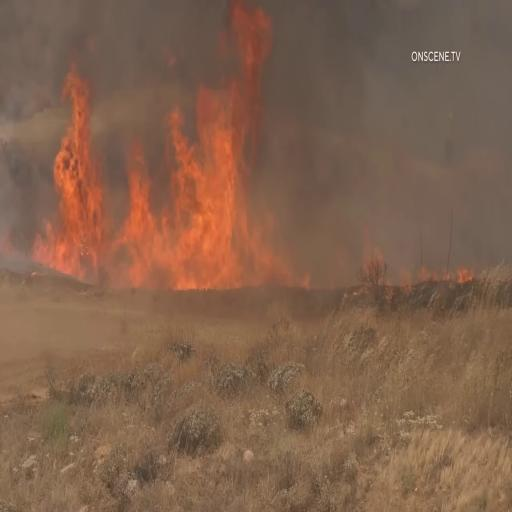fire: (21, 8, 287, 272)
